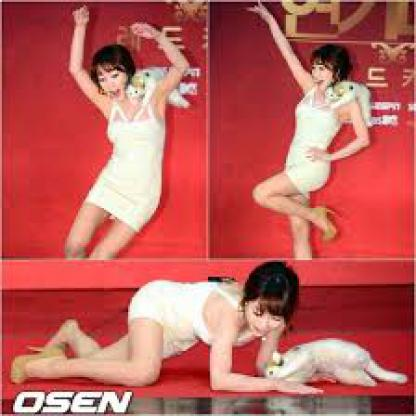Fall_Down: (15, 256, 336, 396)
